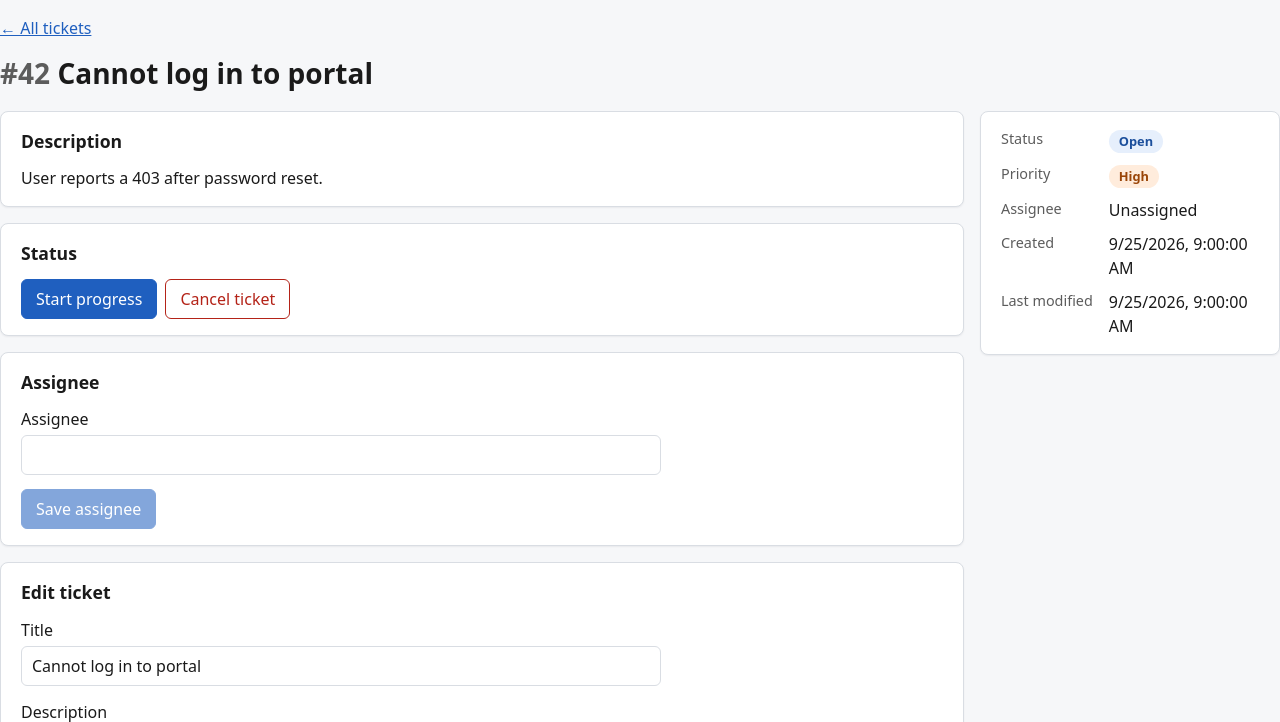
Test: edit ticket (REQ-4, TS-FE-09) › keeps the user's input and offers a reload on a version conflict
Replace the text in the field labelled "Title" with "My unsaved title" at (341, 666), box [21,646,661,686]
(page scrolled)
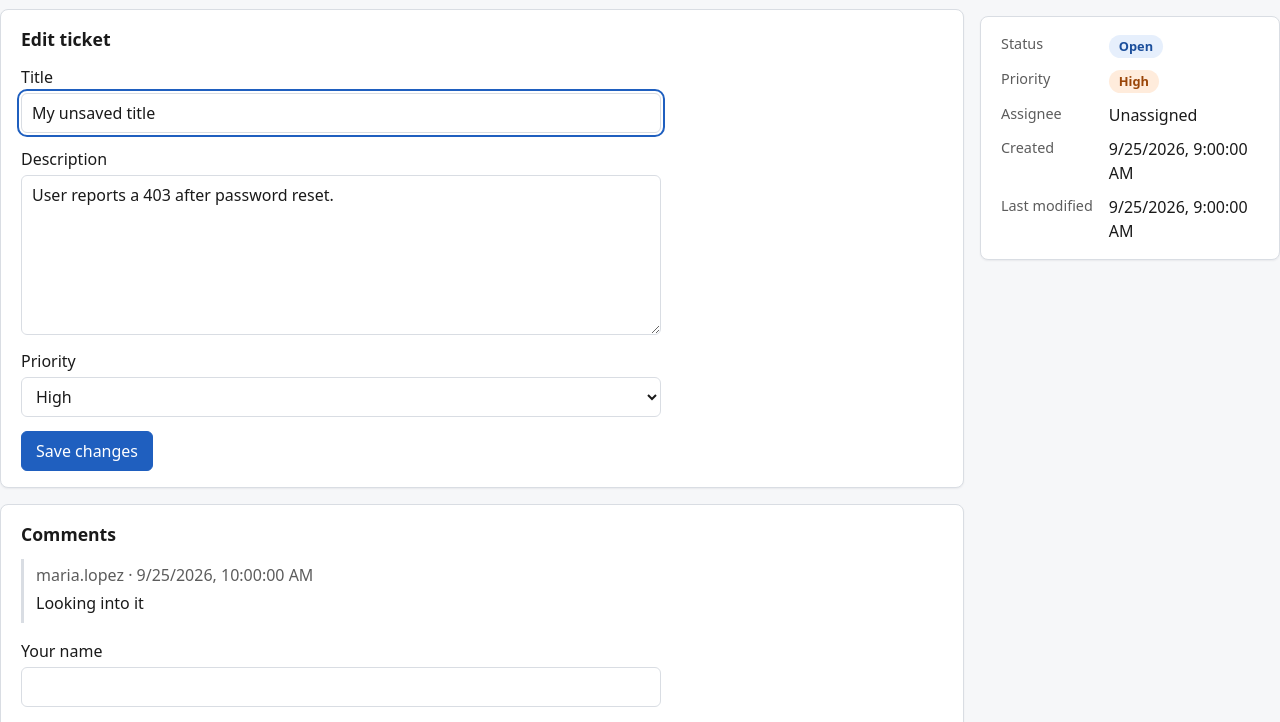
Click the button "Save changes" at (87, 451), box [21,431,153,471]
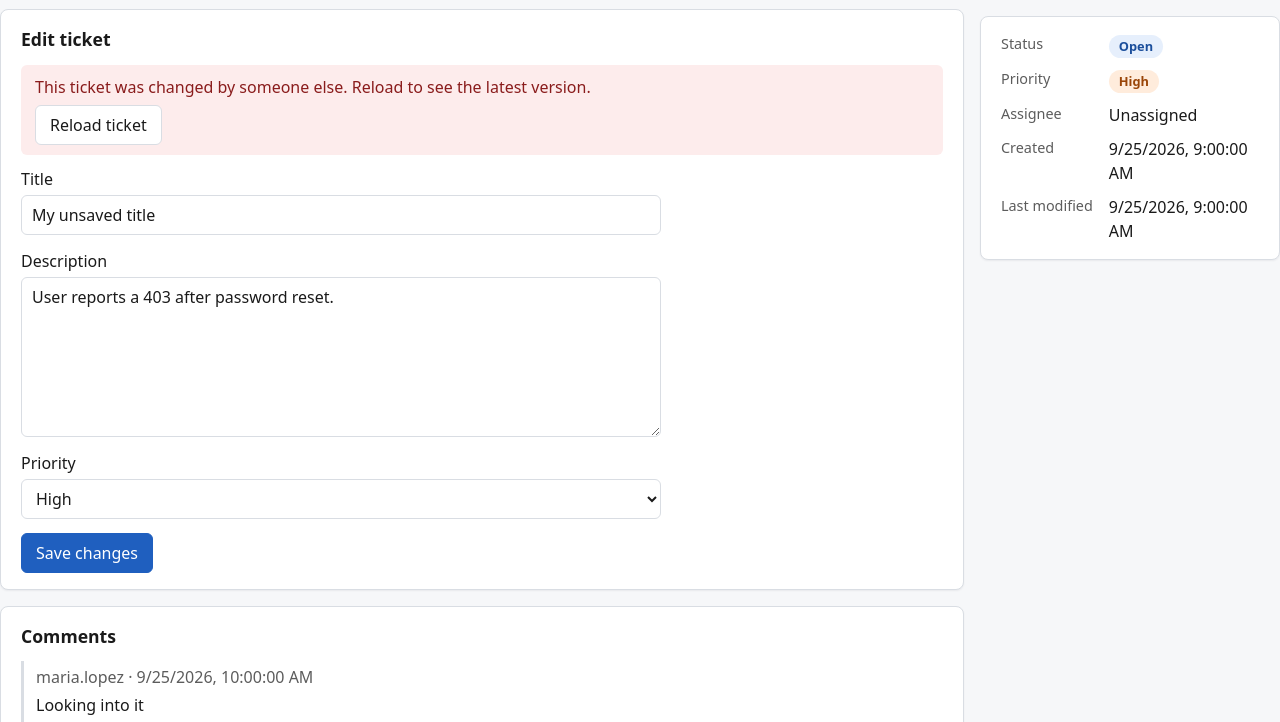
Check: the message shows "This ticket was changed by someone else.", box [35,76,591,98]
Click the button "Reload ticket" at (98, 125), box [35,105,162,145]
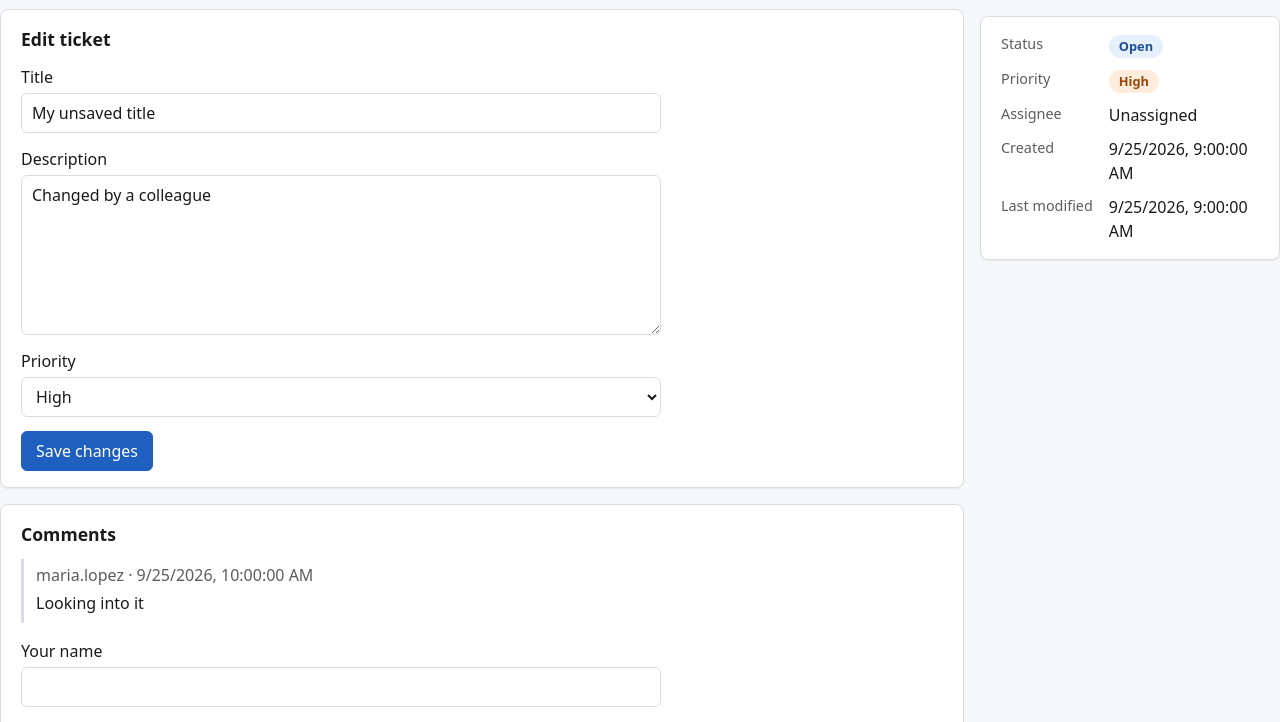
Check: the message is gone
